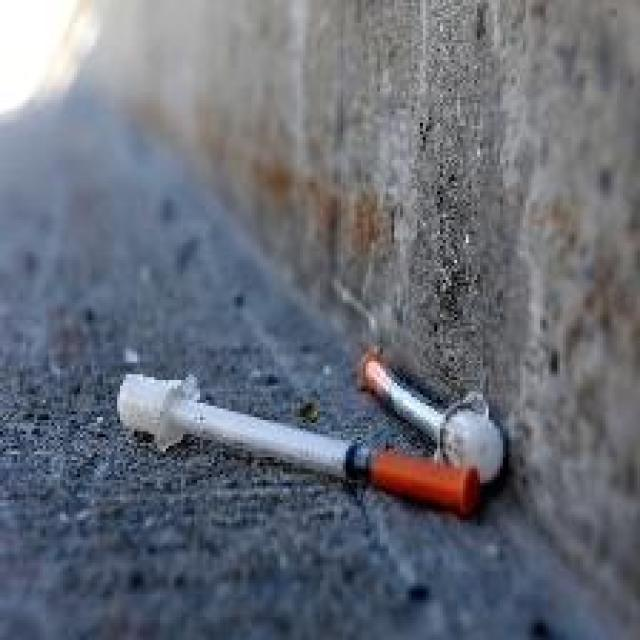syringe: (113, 350, 515, 552)
